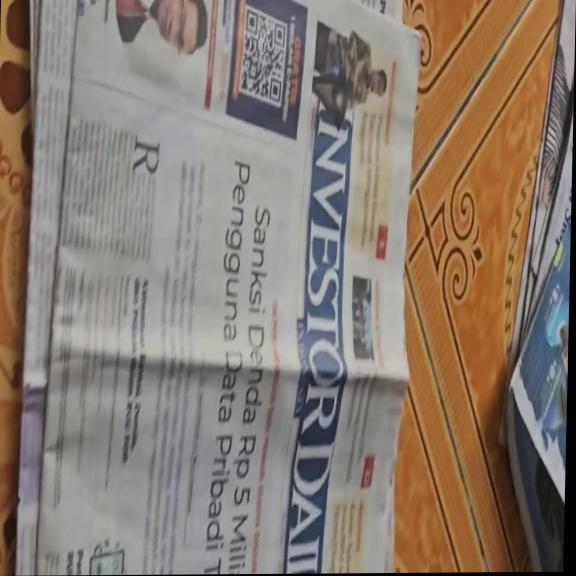Kertas: (16, 2, 423, 571)
